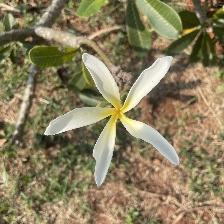champaka: (43, 44, 193, 190)
